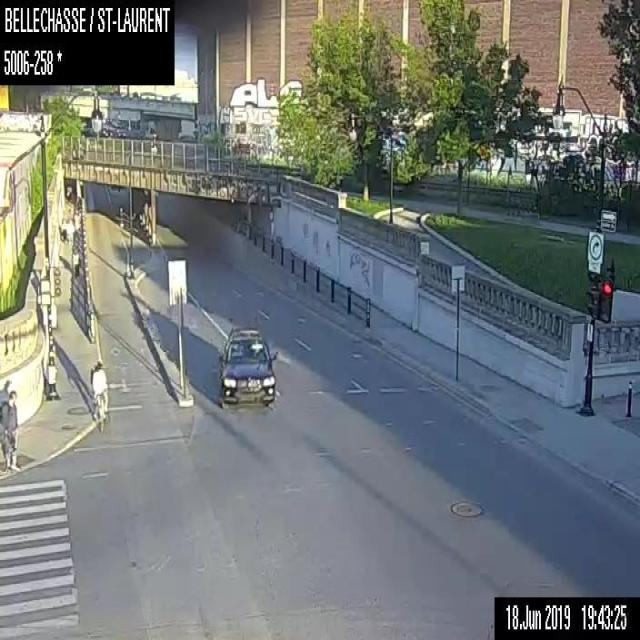cyclist: (89, 360, 108, 430)
pedestrian: (0, 389, 17, 470), (66, 218, 74, 243), (61, 219, 66, 238)
vehicle: (218, 326, 278, 408)
